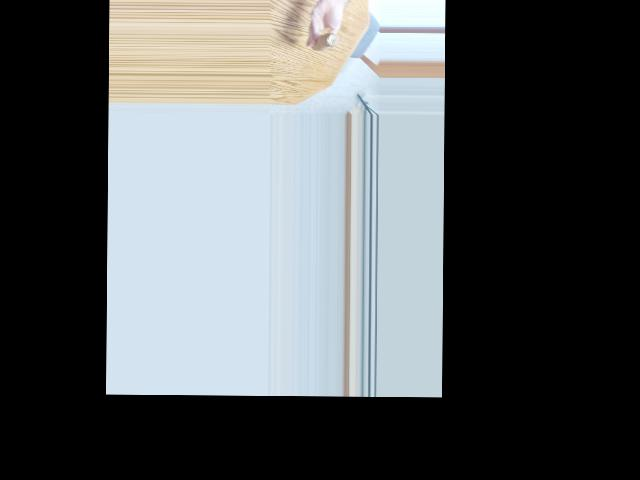sweet_potato: (310, 28, 342, 51)
